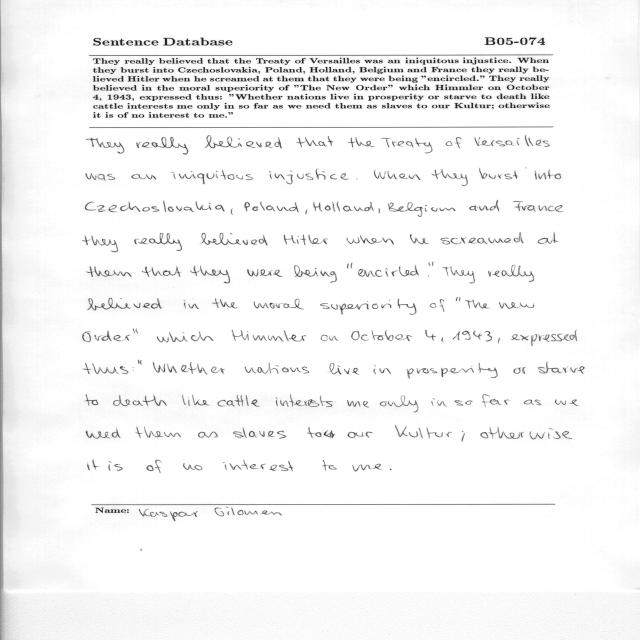word: (320, 298, 417, 315), (86, 201, 225, 212), (407, 363, 497, 379), (269, 169, 349, 184), (480, 427, 572, 440), (441, 232, 524, 245), (511, 330, 578, 346), (172, 171, 253, 184), (388, 202, 456, 217), (205, 136, 282, 149), (137, 137, 189, 155), (153, 362, 225, 375), (474, 135, 550, 147), (87, 298, 162, 310), (232, 330, 307, 342), (134, 233, 182, 251), (200, 233, 268, 245), (395, 425, 452, 439), (488, 265, 534, 282), (381, 138, 433, 153), (294, 265, 337, 283), (223, 460, 293, 471), (358, 265, 419, 277), (190, 266, 230, 284), (245, 363, 309, 374), (276, 395, 333, 407), (351, 330, 412, 341), (380, 396, 418, 413), (233, 427, 286, 439), (157, 332, 214, 343), (432, 169, 468, 186), (313, 202, 374, 212), (87, 138, 125, 154), (83, 236, 118, 253), (113, 395, 167, 406), (442, 267, 475, 284), (538, 362, 584, 374), (244, 202, 299, 212), (513, 201, 563, 212), (83, 331, 130, 342), (217, 395, 260, 407), (83, 363, 129, 374), (254, 299, 304, 309), (87, 266, 132, 277), (136, 427, 181, 438), (284, 235, 328, 246), (346, 235, 394, 245), (374, 170, 420, 180), (453, 331, 493, 342), (297, 136, 333, 148), (479, 168, 518, 179), (142, 266, 181, 277), (482, 395, 510, 408), (329, 363, 359, 375), (86, 429, 121, 439), (470, 201, 500, 212), (182, 395, 209, 406), (247, 269, 283, 277), (212, 298, 238, 309), (348, 138, 375, 148), (535, 170, 562, 180), (499, 302, 534, 309), (86, 173, 115, 181), (465, 300, 490, 309), (538, 233, 558, 244), (352, 464, 382, 471), (430, 299, 445, 312), (147, 460, 162, 473), (410, 235, 429, 245), (555, 399, 579, 406), (446, 137, 461, 148), (307, 427, 322, 438), (322, 460, 337, 471), (373, 365, 391, 374), (86, 394, 99, 406), (347, 400, 369, 407), (348, 432, 373, 438), (109, 461, 123, 471), (184, 300, 199, 309), (432, 398, 447, 407), (183, 463, 202, 470), (132, 174, 157, 179), (425, 330, 436, 341), (198, 432, 218, 438), (87, 460, 99, 470), (454, 400, 473, 406), (524, 400, 542, 406), (321, 335, 338, 341), (513, 367, 526, 374), (324, 431, 335, 439), (462, 431, 465, 442), (347, 263, 352, 269), (133, 329, 138, 334), (429, 262, 434, 266), (138, 360, 142, 365), (456, 298, 460, 302), (231, 208, 233, 215), (441, 338, 444, 342), (498, 338, 500, 344), (306, 210, 308, 215), (378, 208, 380, 213), (133, 367, 134, 371), (390, 468, 392, 470), (427, 276, 429, 277), (356, 179, 357, 180)
